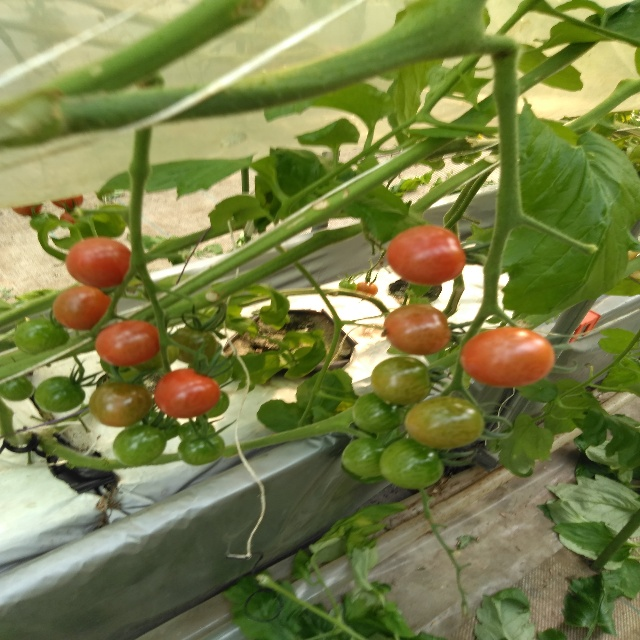l_fully_ripened: (460, 326, 553, 386), (387, 225, 467, 285), (65, 237, 131, 287), (155, 367, 219, 417), (95, 320, 160, 366)
l_green: (404, 395, 483, 450), (380, 436, 444, 489), (370, 357, 433, 405), (352, 393, 408, 432), (114, 425, 166, 465), (341, 439, 384, 484), (14, 319, 69, 354), (34, 377, 84, 411), (178, 432, 225, 466)
l_half_ripened: (383, 304, 452, 356), (90, 383, 151, 427), (52, 286, 111, 331)
